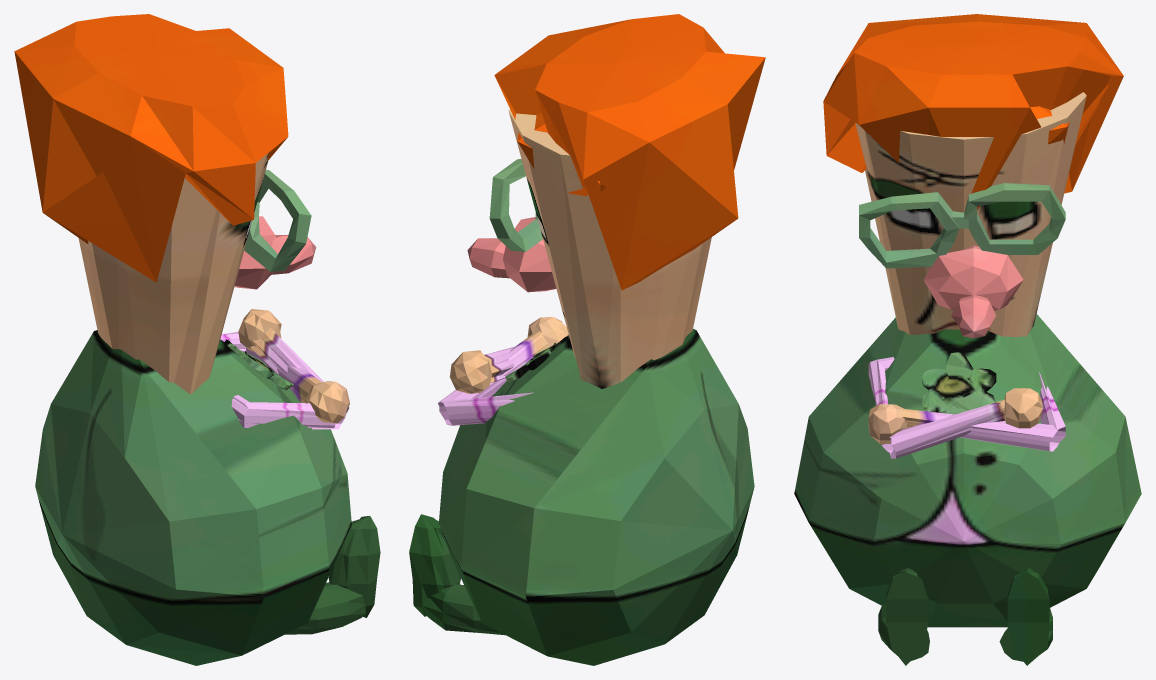
The model's file is ShikCard.glb.
3 renders of one model, left to right at view 1: azimuth 30°, elevation 25°; view 2: azimuth 150°, elevation 25°; view 3: azimuth 270°, elevation 25°, orthographic. The views are drawn at different scales.
Parts seen in each view (by area): view 1: ShikCard; view 2: ShikCard; view 3: ShikCard.
Boxes of the visible parts, <box> form: ShikCard: <box>14,14,380,665</box>; ShikCard: <box>409,14,765,665</box>; ShikCard: <box>794,14,1141,665</box>.
Size of the model in its own units: 103 by 200 by 114.
Materials: 1 (1 with a texture image).
